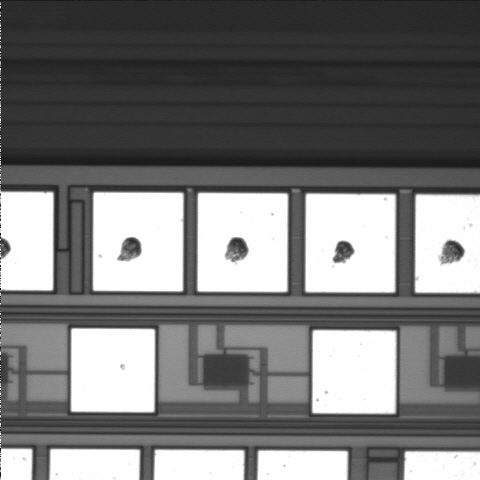pad: (198, 193, 288, 292), (93, 193, 183, 291), (306, 194, 395, 292), (71, 329, 155, 412), (312, 330, 396, 413)
